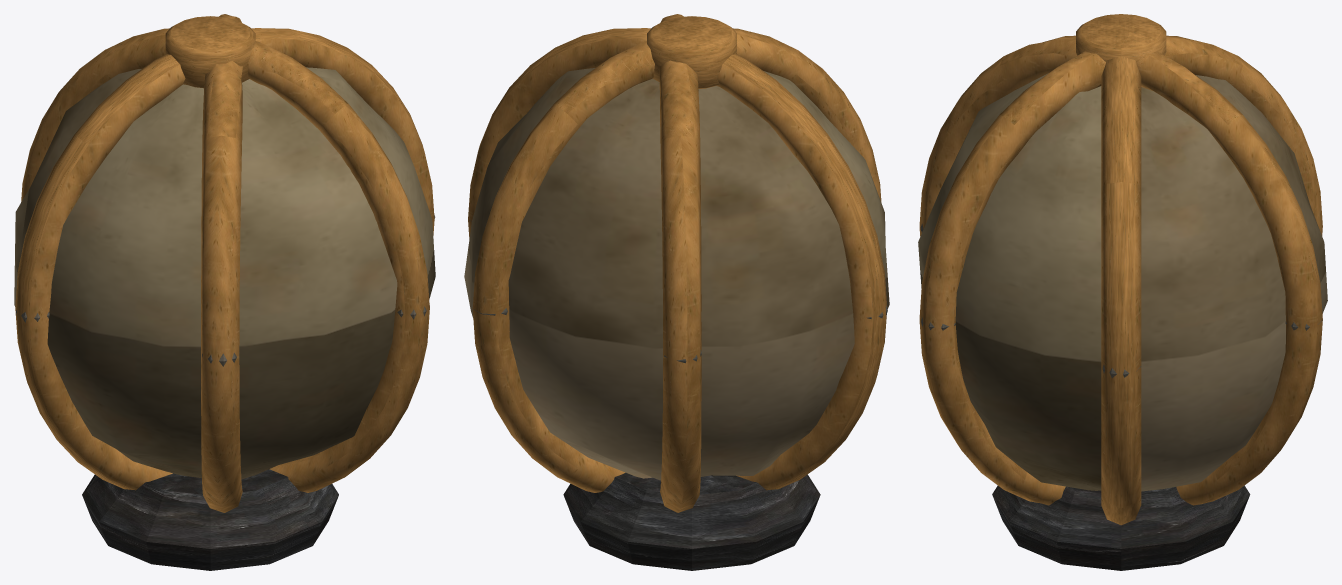
Rendered from mortuary_globe.glb.
The picture shows the model from 3 angles, left to right: view 1: azimuth 30°, elevation 25°; view 2: azimuth 150°, elevation 25°; view 3: azimuth 270°, elevation 25°; orthographic projection.
Visible parts, largest first — view 1: Gem bone-white mortuary globe, Six riveted brass globe ribs.005, Six riveted brass globe ribs.003, Rust-dark clamped lower bier, Six riveted brass globe ribs.004, Six riveted brass globe ribs, Six riveted brass globe ribs.002, Sealed globe summit; view 2: Gem bone-white mortuary globe, Six riveted brass globe ribs.001, Six riveted brass globe ribs.003, Rust-dark clamped lower bier, Six riveted brass globe ribs.002, Six riveted brass globe ribs, Six riveted brass globe ribs.004, Sealed globe summit; view 3: Gem bone-white mortuary globe, Six riveted brass globe ribs.005, Six riveted brass globe ribs.001, Six riveted brass globe ribs, Rust-dark clamped lower bier, Six riveted brass globe ribs.004, Six riveted brass globe ribs.002, Sealed globe summit.
Boxes of the visible parts, <box> form: Gem bone-white mortuary globe: <box>14,67,435,479</box>; Six riveted brass globe ribs.005: <box>247,41,429,492</box>; Six riveted brass globe ribs.003: <box>15,54,185,490</box>; Rust-dark clamped lower bier: <box>82,469,338,570</box>; Six riveted brass globe ribs.004: <box>201,61,242,512</box>; Six riveted brass globe ribs: <box>251,28,434,235</box>; Six riveted brass globe ribs.002: <box>21,28,169,202</box>; Sealed globe summit: <box>165,16,255,88</box>; Gem bone-white mortuary globe: <box>464,68,889,480</box>; Six riveted brass globe ribs.001: <box>472,41,654,492</box>; Six riveted brass globe ribs.003: <box>717,54,887,490</box>; Rust-dark clamped lower bier: <box>563,472,820,570</box>; Six riveted brass globe ribs.002: <box>659,60,701,512</box>; Six riveted brass globe ribs: <box>468,28,650,238</box>; Six riveted brass globe ribs.004: <box>733,28,881,202</box>; Sealed globe summit: <box>647,16,736,88</box>; Gem bone-white mortuary globe: <box>918,73,1327,491</box>; Six riveted brass globe ribs.005: <box>919,51,1105,505</box>; Six riveted brass globe ribs.001: <box>1136,51,1322,505</box>; Six riveted brass globe ribs: <box>1101,56,1141,525</box>; Rust-dark clamped lower bier: <box>992,485,1250,570</box>; Six riveted brass globe ribs.004: <box>919,35,1077,236</box>; Six riveted brass globe ribs.002: <box>1165,35,1322,235</box>; Sealed globe summit: <box>1076,14,1166,62</box>.
Size of the model in its own units: 0.2312 by 0.2695 by 0.1968.
Materials: 4 (4 with a texture image).
